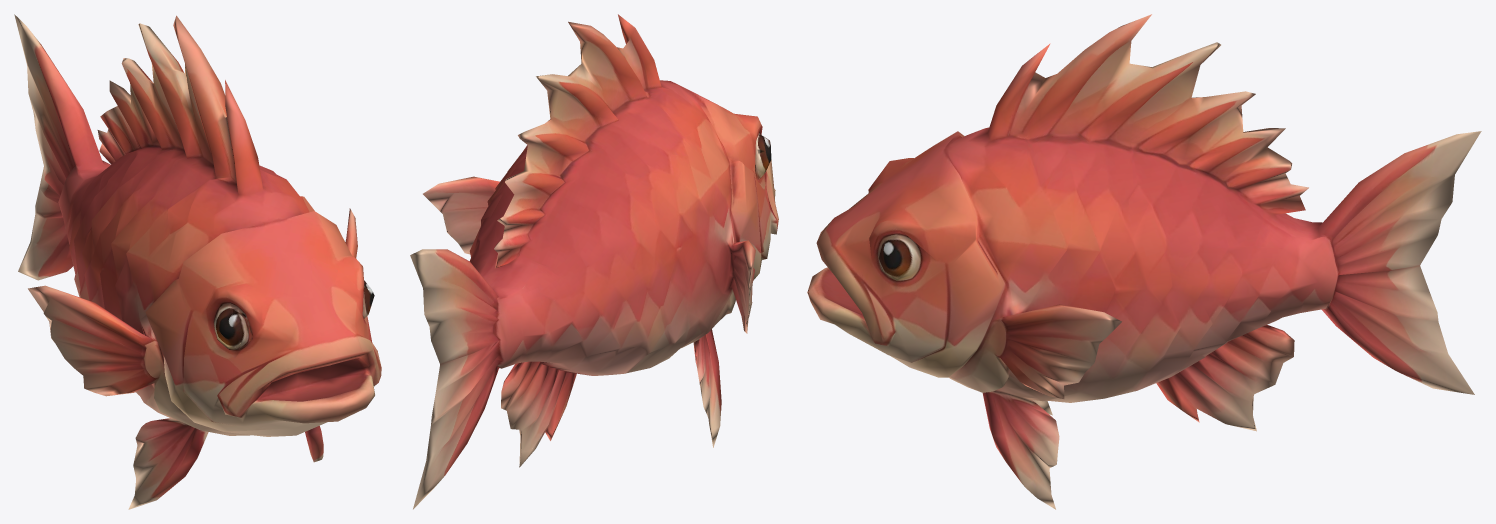
Rendered from coral-snapper.glb.
3 views of the same model, side by side, from view 1: azimuth 30°, elevation 25°; view 2: azimuth 150°, elevation 25°; view 3: azimuth 270°, elevation 25° (orthographic). The views are drawn at different scales.
Parts seen in each view (by area): view 1: tripo_node_0826fa80-7941-4d42-9229-e090644e65ea; view 2: tripo_node_0826fa80-7941-4d42-9229-e090644e65ea; view 3: tripo_node_0826fa80-7941-4d42-9229-e090644e65ea.
Part boxes in pixels (<box>): tripo_node_0826fa80-7941-4d42-9229-e090644e65ea: <box>14,14,381,509</box>; tripo_node_0826fa80-7941-4d42-9229-e090644e65ea: <box>410,14,778,509</box>; tripo_node_0826fa80-7941-4d42-9229-e090644e65ea: <box>807,14,1481,509</box>.
Size of the model in its own units: 0.5713 by 0.7364 by 1.
1 material, 1 textured.
